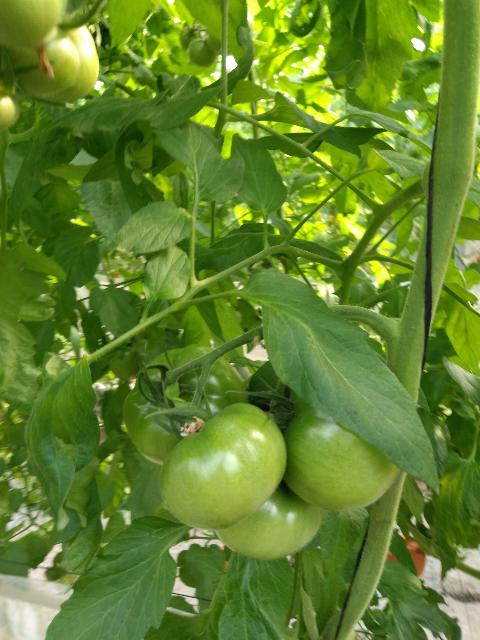b_green: (158, 403, 287, 530), (122, 344, 248, 465), (282, 389, 402, 512), (1, 12, 99, 104), (213, 478, 322, 560), (0, 89, 20, 130)
